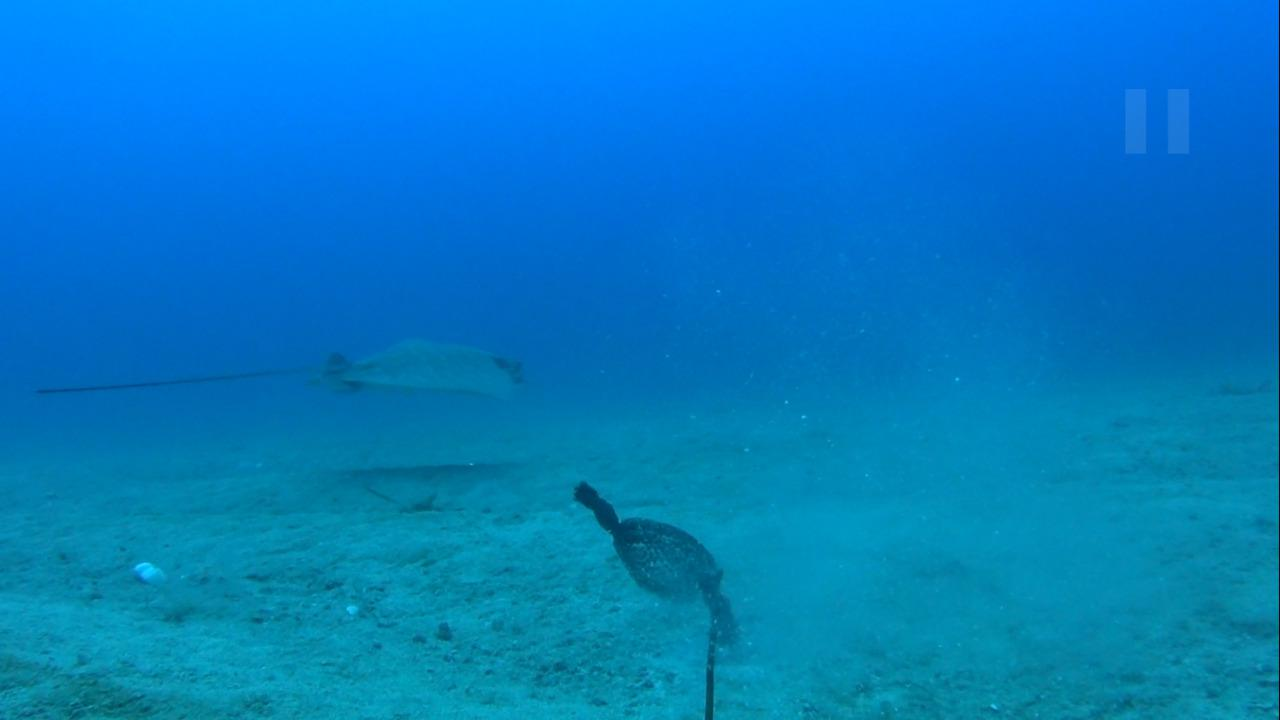myliobatis: (28, 328, 535, 421)
